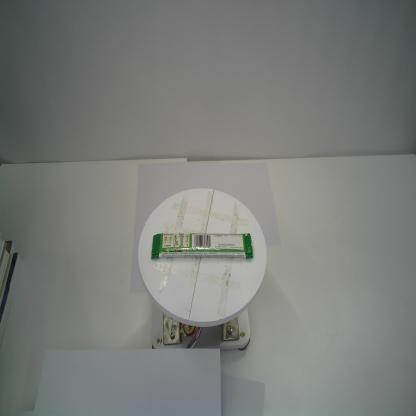Chocolate: (150, 233, 253, 259)
